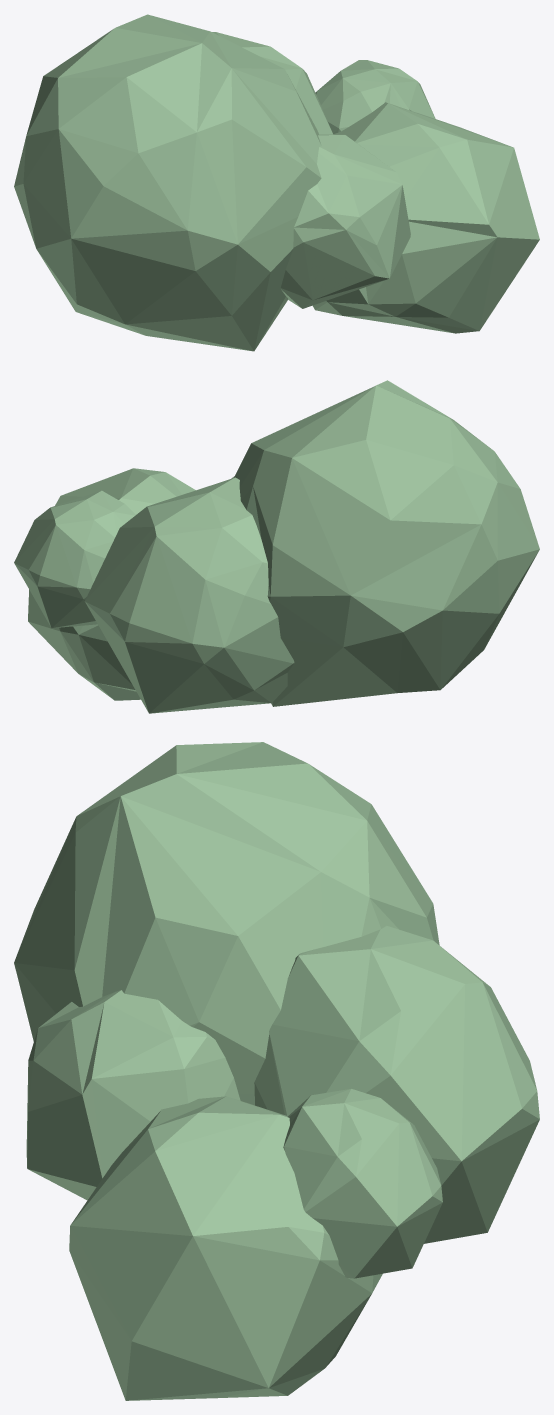
The model's file is Mystic_Bush_M2.fbx.
3 renders of one model, top to bottom at view 1: azimuth 30°, elevation 25°; view 2: azimuth 150°, elevation 25°; view 3: azimuth 270°, elevation 25°, orthographic. The views are drawn at different scales.
Parts seen in each view (by area): view 1: Mystic_Bush_M2; view 2: Mystic_Bush_M2; view 3: Mystic_Bush_M2.
Boxes of the visible parts, x1,y1,x2,y2 form: Mystic_Bush_M2: (14,14,539,351); Mystic_Bush_M2: (14,380,539,713); Mystic_Bush_M2: (14,742,539,1400).
Size of the model in its own units: 192 by 135 by 136.
